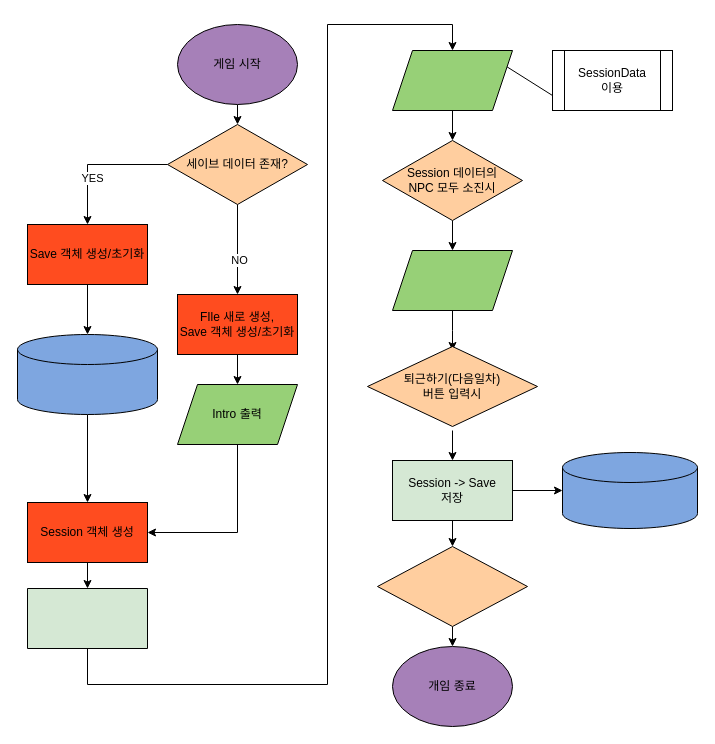
This 715x744 diagram has some shape labels left out. The shapes that lost their labels are listed below. From the top down, each one's centre as x and y in pixels, then its label:
At [452,80]: "게임 화면 및 데이터 UI 출력".
At [452,280]: "정산화면 출력".
At [87,374]: "File->Save 데이터 로드".
At [630,490]: "Save -> File 저장".
At [452,586]: "게임 종료 버튼 입력 시".
At [87,618]: "save -> Session 데이터 로드".
